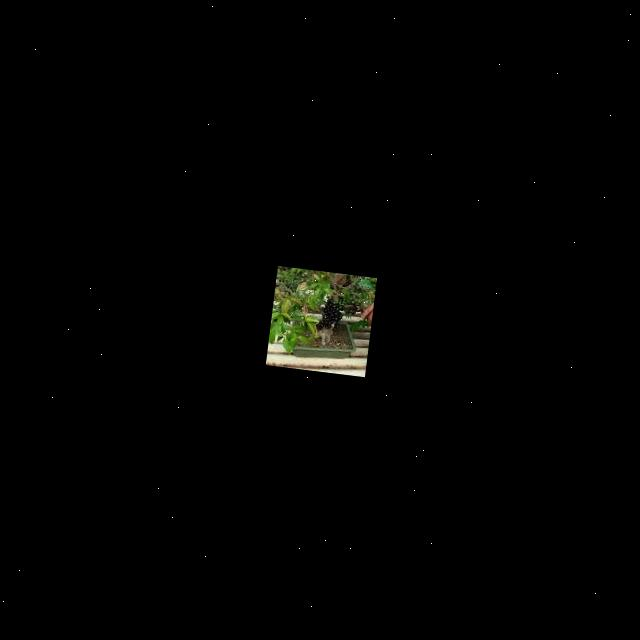grape: (316, 296, 342, 328)
